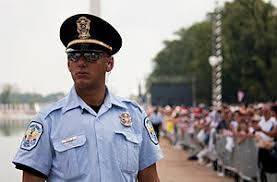uniform: (25, 84, 158, 179)
